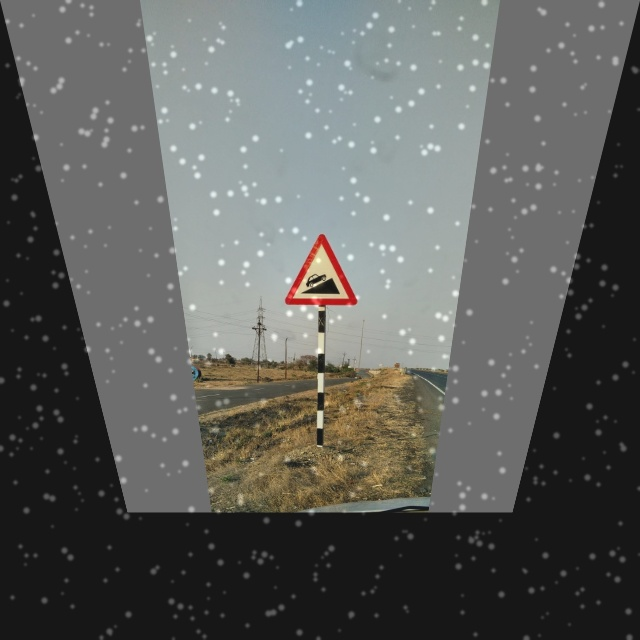Steep_Ascent: (275, 232, 364, 308)
